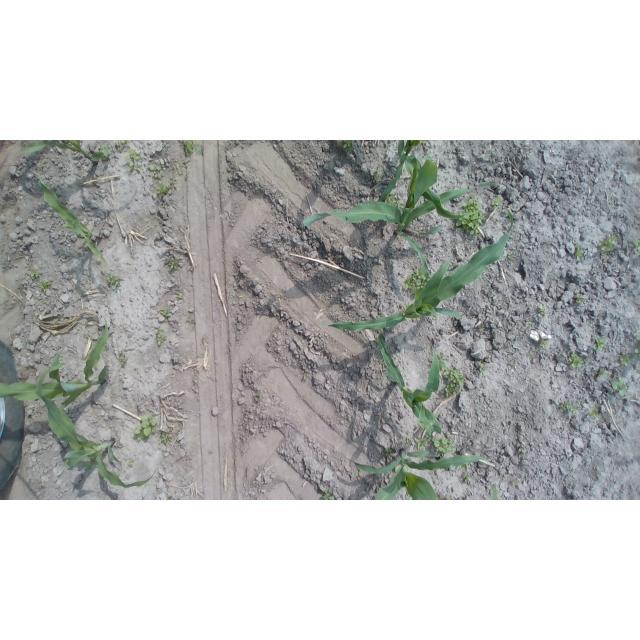Maize: (318, 198, 515, 331), (303, 159, 500, 282), (35, 362, 157, 488), (0, 317, 108, 411), (378, 140, 475, 218), (375, 332, 444, 437), (37, 167, 108, 268), (353, 448, 489, 500), (17, 140, 105, 165), (490, 483, 499, 500)
Weeds: (455, 198, 485, 235), (443, 367, 467, 400), (134, 411, 158, 443), (600, 233, 621, 256), (125, 147, 143, 173), (431, 436, 454, 453), (405, 268, 424, 288), (183, 140, 204, 158), (107, 273, 126, 292), (611, 376, 627, 397), (591, 336, 609, 353), (559, 401, 579, 415), (148, 164, 166, 179), (174, 160, 190, 176), (460, 465, 474, 483), (437, 351, 450, 370), (569, 353, 585, 368), (317, 488, 335, 500), (155, 329, 167, 347), (161, 432, 174, 446), (167, 258, 181, 271), (588, 407, 600, 422), (118, 349, 128, 367), (115, 140, 130, 152), (575, 244, 585, 261), (620, 354, 633, 367), (167, 175, 178, 190), (416, 436, 429, 448), (344, 140, 357, 152), (156, 182, 169, 194), (159, 309, 171, 321), (536, 304, 546, 318), (41, 279, 52, 291), (539, 339, 550, 350), (632, 239, 640, 254), (490, 195, 502, 205), (386, 194, 396, 206), (478, 364, 487, 377), (401, 436, 413, 445), (102, 144, 110, 157), (29, 267, 39, 277), (128, 458, 137, 468), (385, 448, 394, 457), (507, 250, 515, 260), (575, 296, 586, 303), (186, 317, 194, 326), (525, 319, 535, 326), (374, 171, 380, 182), (164, 492, 172, 500), (519, 445, 526, 454), (634, 347, 640, 357), (598, 368, 604, 377), (394, 204, 404, 209), (508, 359, 515, 366), (512, 479, 519, 486), (177, 295, 184, 302), (478, 325, 486, 331), (447, 492, 452, 501), (303, 374, 310, 380), (255, 392, 261, 399), (632, 329, 638, 335), (529, 348, 535, 354), (381, 412, 386, 419), (355, 471, 359, 478), (100, 197, 104, 204), (419, 141, 427, 144), (61, 255, 67, 259), (272, 328, 275, 334), (485, 358, 489, 362), (637, 339, 640, 344), (315, 486, 318, 490), (169, 429, 173, 432), (183, 313, 187, 316)
